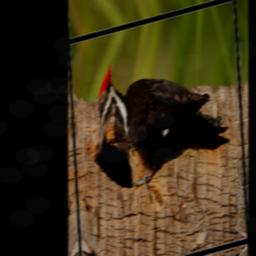Woodpecker: (93, 31, 233, 219)
